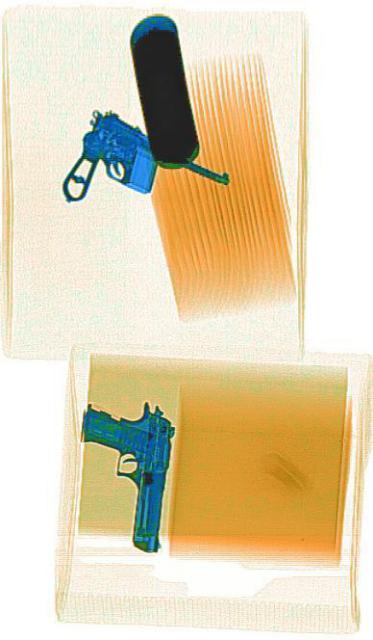Gun: (57, 92, 230, 274), (64, 380, 176, 554)
